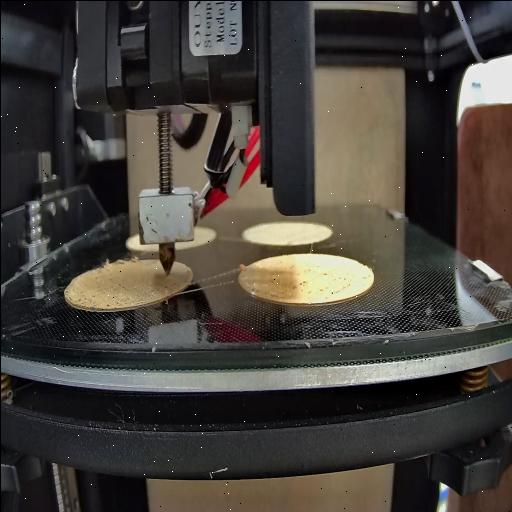under_extrusion: (287, 261, 361, 302), (66, 276, 132, 310), (246, 280, 263, 296)
